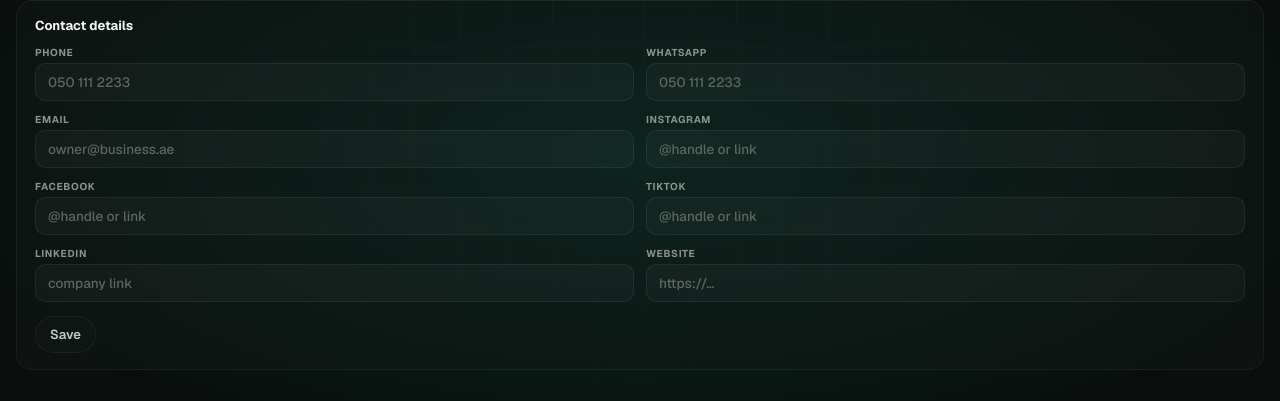
Scenario: ContactDetails › shows the server-normalized value once the parent re-renders with the saved lead
In the field labelled "Instagram": {"x": 946, "y": 149} [646, 130, 1245, 168], type "@acmegym"
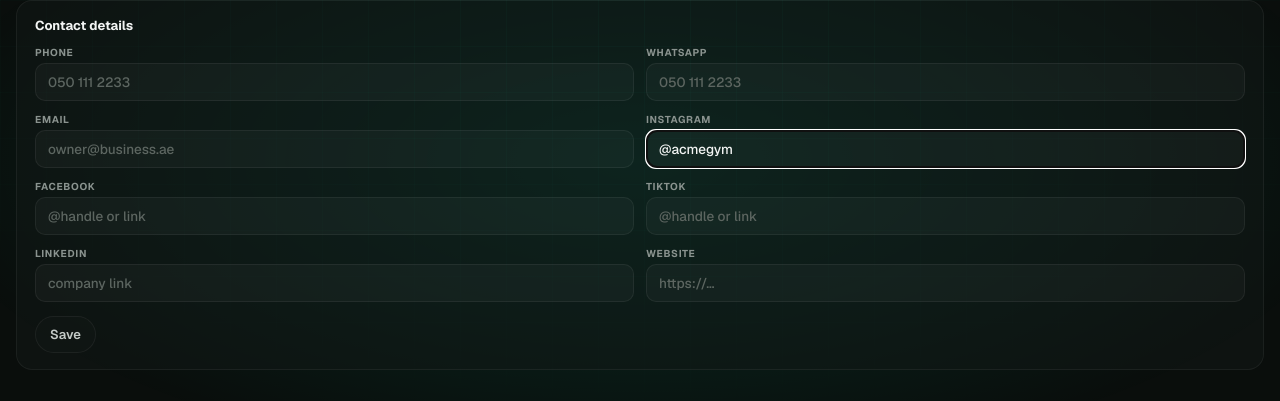
Click the button "Save": {"x": 65, "y": 334} [35, 316, 96, 353]
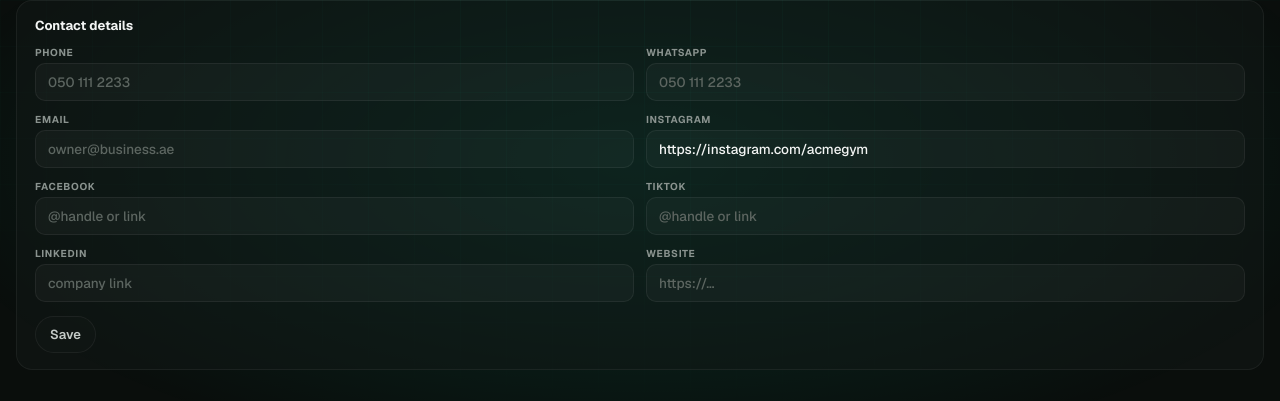
expect the field labelled "Instagram" holds "https://instagram.com/acmegym": met, box [646, 130, 1245, 168]
